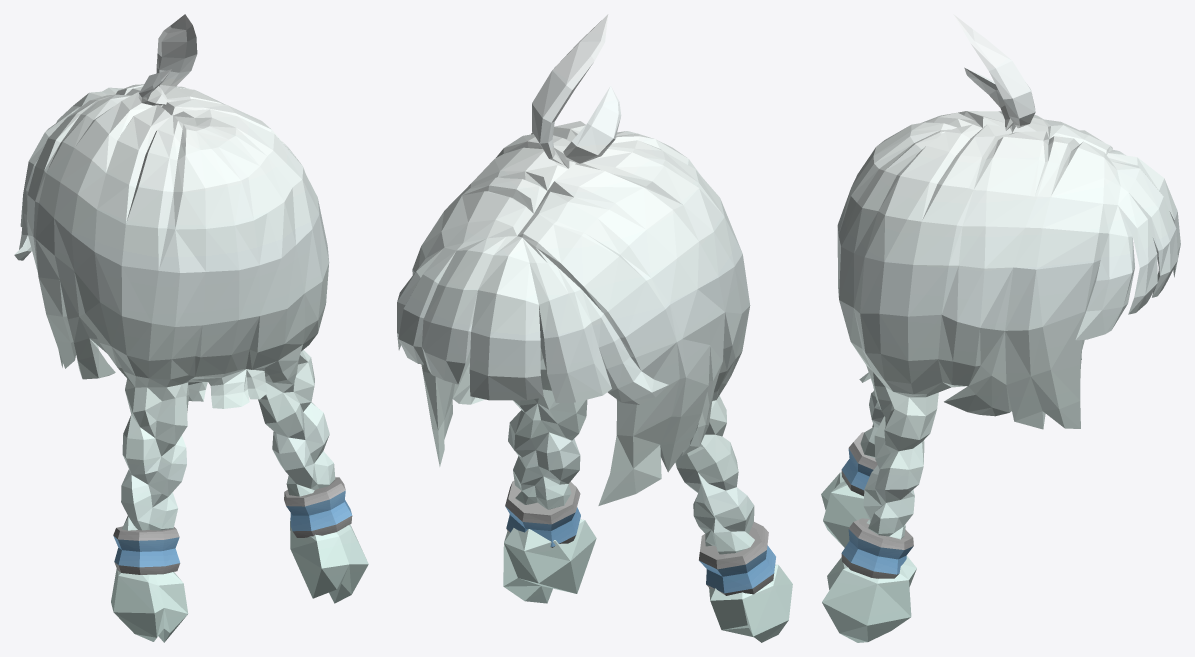
Rendered from CharSkyKid_Hair_TwoTails.glb.
The picture shows the model from 3 angles, left to right: view 1: azimuth 30°, elevation 25°; view 2: azimuth 150°, elevation 25°; view 3: azimuth 270°, elevation 25°; orthographic projection. The views are drawn at different scales.
Parts seen in each view (by area): view 1: CharSkyKid_Hair_TwoTails; view 2: CharSkyKid_Hair_TwoTails; view 3: CharSkyKid_Hair_TwoTails.
Boxes of the visible parts, x1=… form: CharSkyKid_Hair_TwoTails: x1=14, y1=14, x2=368, y2=642; CharSkyKid_Hair_TwoTails: x1=397, y1=14, x2=792, y2=642; CharSkyKid_Hair_TwoTails: x1=821, y1=14, x2=1180, y2=642.
Size of the model in its own units: 2.94 by 6.51 by 3.67.
Materials: 1 (1 with a texture image).
